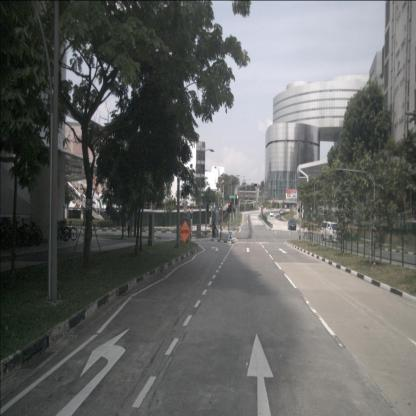human-pedestrian-adult: (212, 221, 215, 238), (128, 217, 130, 238)
vehicle-car: (321, 221, 343, 243), (288, 219, 296, 231), (270, 210, 274, 218)
